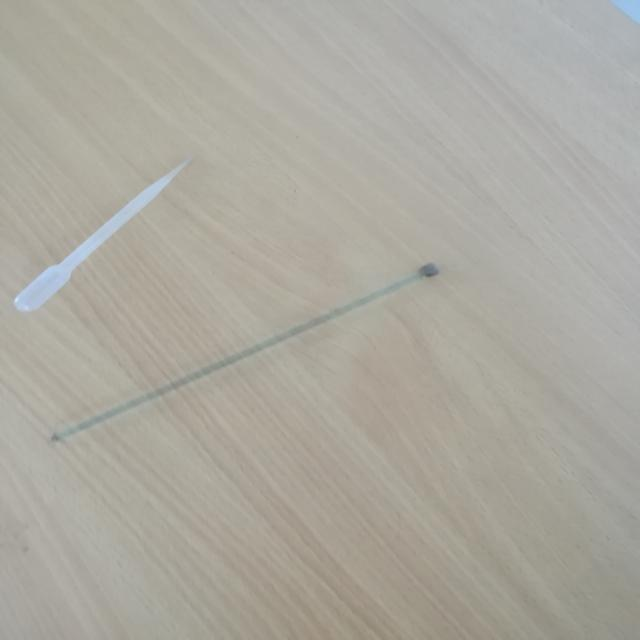Glass_Rod: (43, 229, 467, 478)
Pipette: (0, 131, 196, 334)
